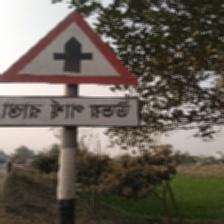Crossroad: (0, 8, 141, 131)
